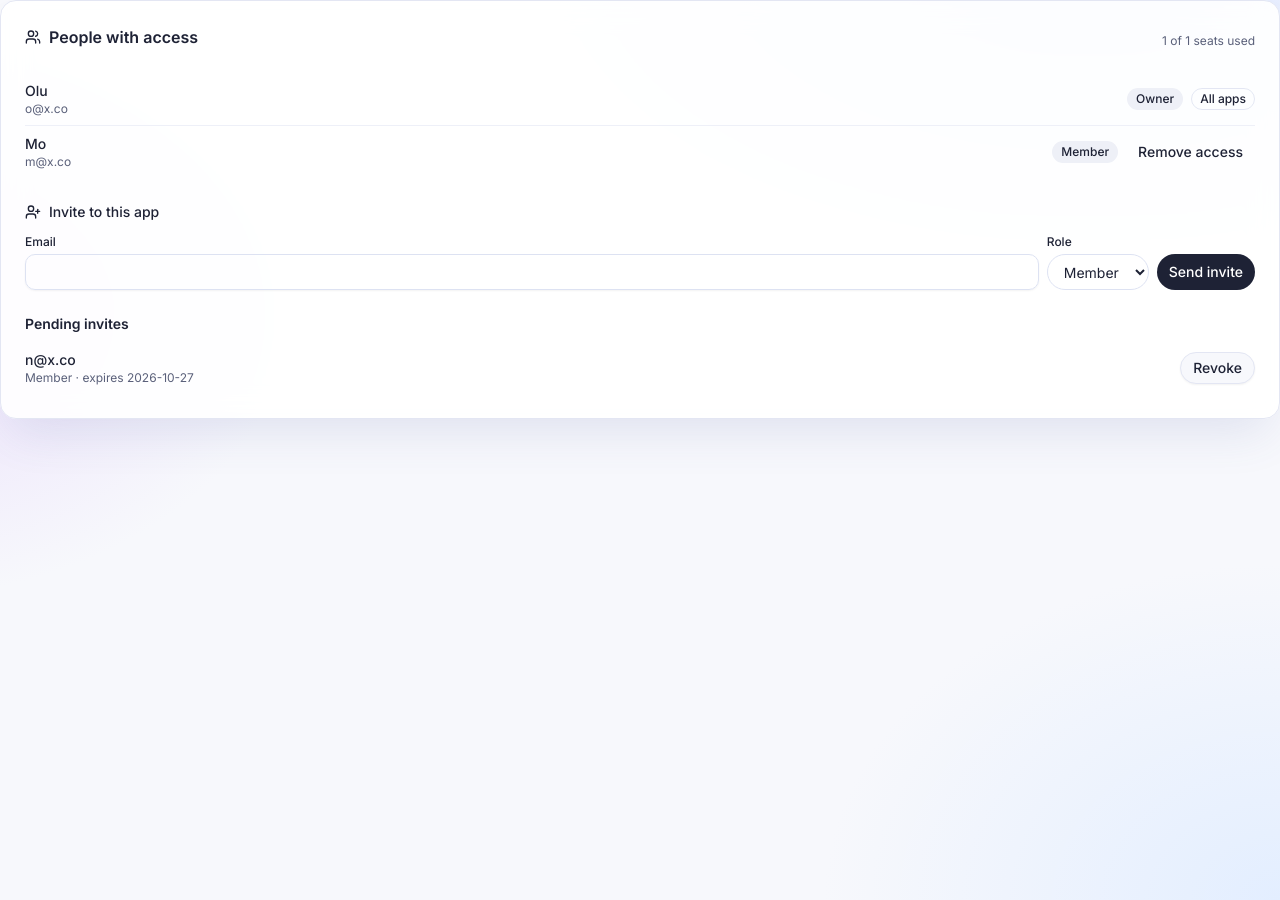
it: People › shows the BFF error when removal fails and keeps the row
This screenshot has width=1280, height=900.
Click the button named "Remove m@x.co’s access": (1191, 152) x1=1126 y1=136 x2=1255 y2=168
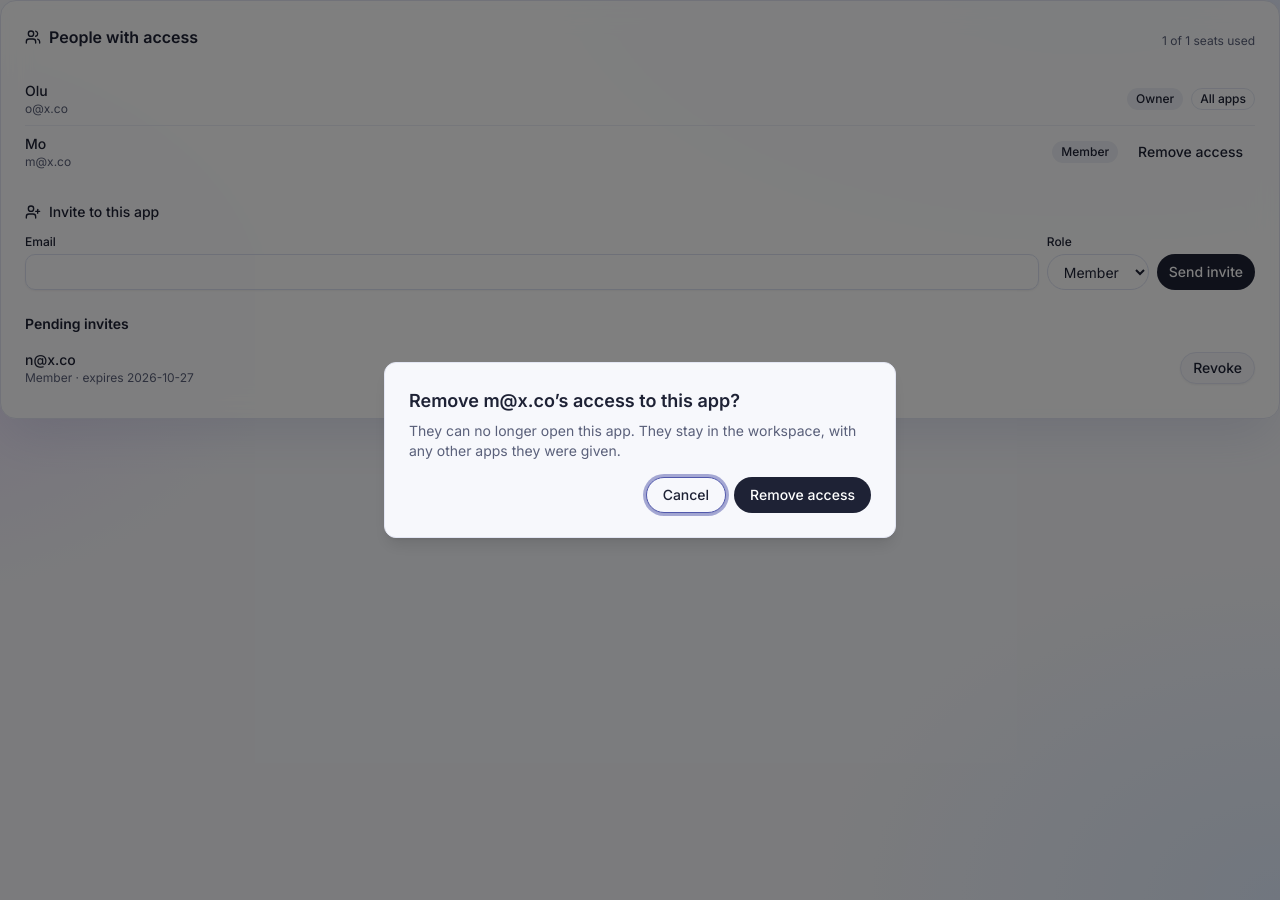
Click the button "Remove access": (803, 495) x1=734 y1=477 x2=871 y2=513
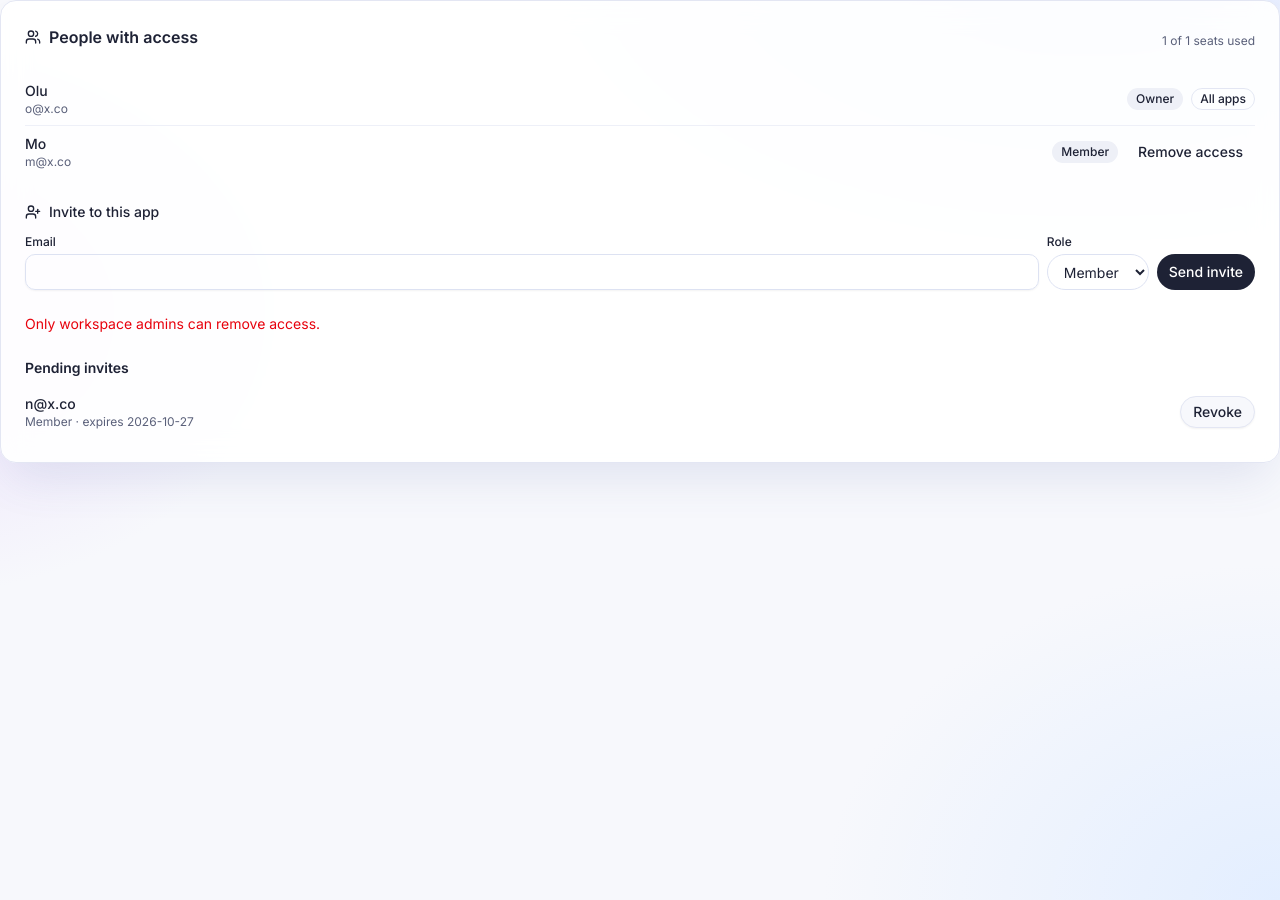
Expected: the text "m@x.co" is shown, x1=25 y1=154 x2=71 y2=169
Now the message reads "Only workspace admins can remove access.", box x1=25 y1=315 x2=320 y2=332
